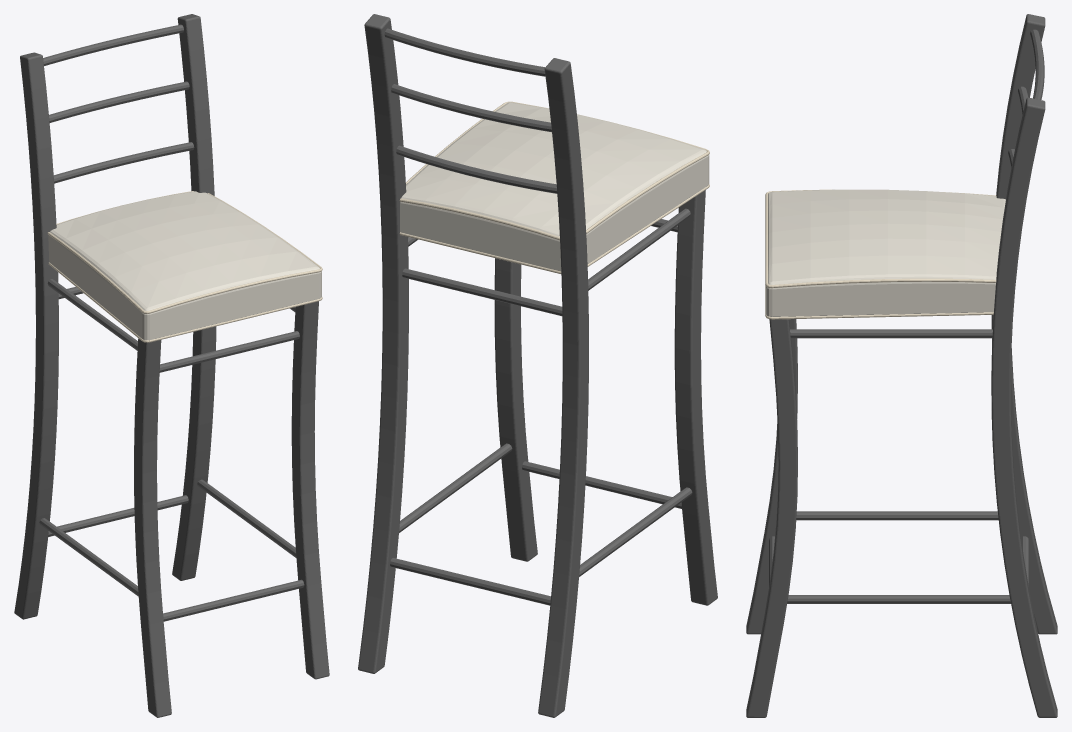
The model's file is high_chair.dae.
3 views of the same model, side by side, from view 1: azimuth 30°, elevation 25°; view 2: azimuth 150°, elevation 25°; view 3: azimuth 270°, elevation 25° (orthographic). The views are drawn at different scales.
Visible parts, largest first — view 1: _1a8_banqu; view 2: _1a8_banqu; view 3: _1a8_banqu.
Boxes of the visible parts, <box> form: _1a8_banqu: <box>14,14,329,717</box>; _1a8_banqu: <box>358,14,717,717</box>; _1a8_banqu: <box>746,14,1057,717</box>.
Size of the model in its own units: 0.3186 by 0.4397 by 0.9564.
